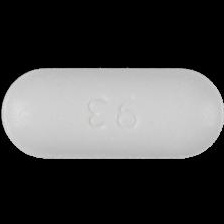0093-7472: (0, 0, 224, 224)
